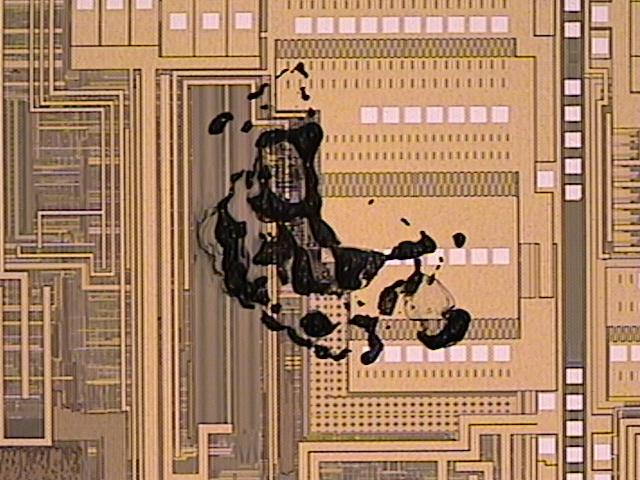PO CONTAMINATION: (188, 59, 479, 373)
